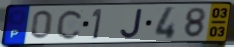0: (29, 9, 55, 41)
1: (91, 7, 103, 40)
4: (154, 5, 177, 41)
8: (183, 6, 208, 38)
C: (55, 8, 85, 41)
J: (120, 8, 145, 39)
